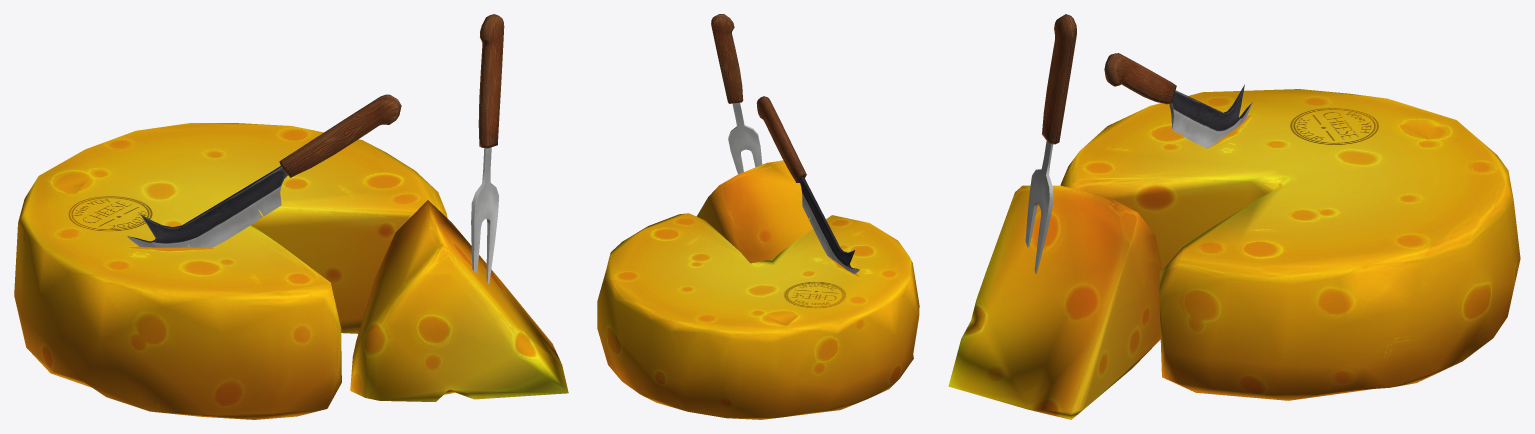
File: cheese.fbx
3 views of the same model, side by side, from view 1: azimuth 30°, elevation 25°; view 2: azimuth 150°, elevation 25°; view 3: azimuth 270°, elevation 25° (orthographic). The views are drawn at different scales.
Parts seen in each view (by area): view 1: cheese_1, cheese_2, knife, fork; view 2: cheese_1, cheese_2, fork, knife; view 3: cheese_1, cheese_2, knife, fork.
Boxes of the visible parts, box(x1,y1,x2,y2) form: cheese_1: box(14, 123, 447, 419); cheese_2: box(350, 200, 568, 401); knife: box(127, 94, 401, 247); fork: box(471, 14, 504, 283); cheese_1: box(597, 213, 919, 419); cheese_2: box(696, 160, 812, 263); fork: box(711, 14, 762, 174); knife: box(756, 96, 859, 274); cheese_1: box(1060, 89, 1520, 400); cheese_2: box(948, 185, 1161, 419); knife: box(1104, 53, 1252, 148); fork: box(1025, 14, 1076, 273).
Size of the model in its own units: 12.92 by 10.75 by 14.81.
Materials: 2 (2 with a texture image).
